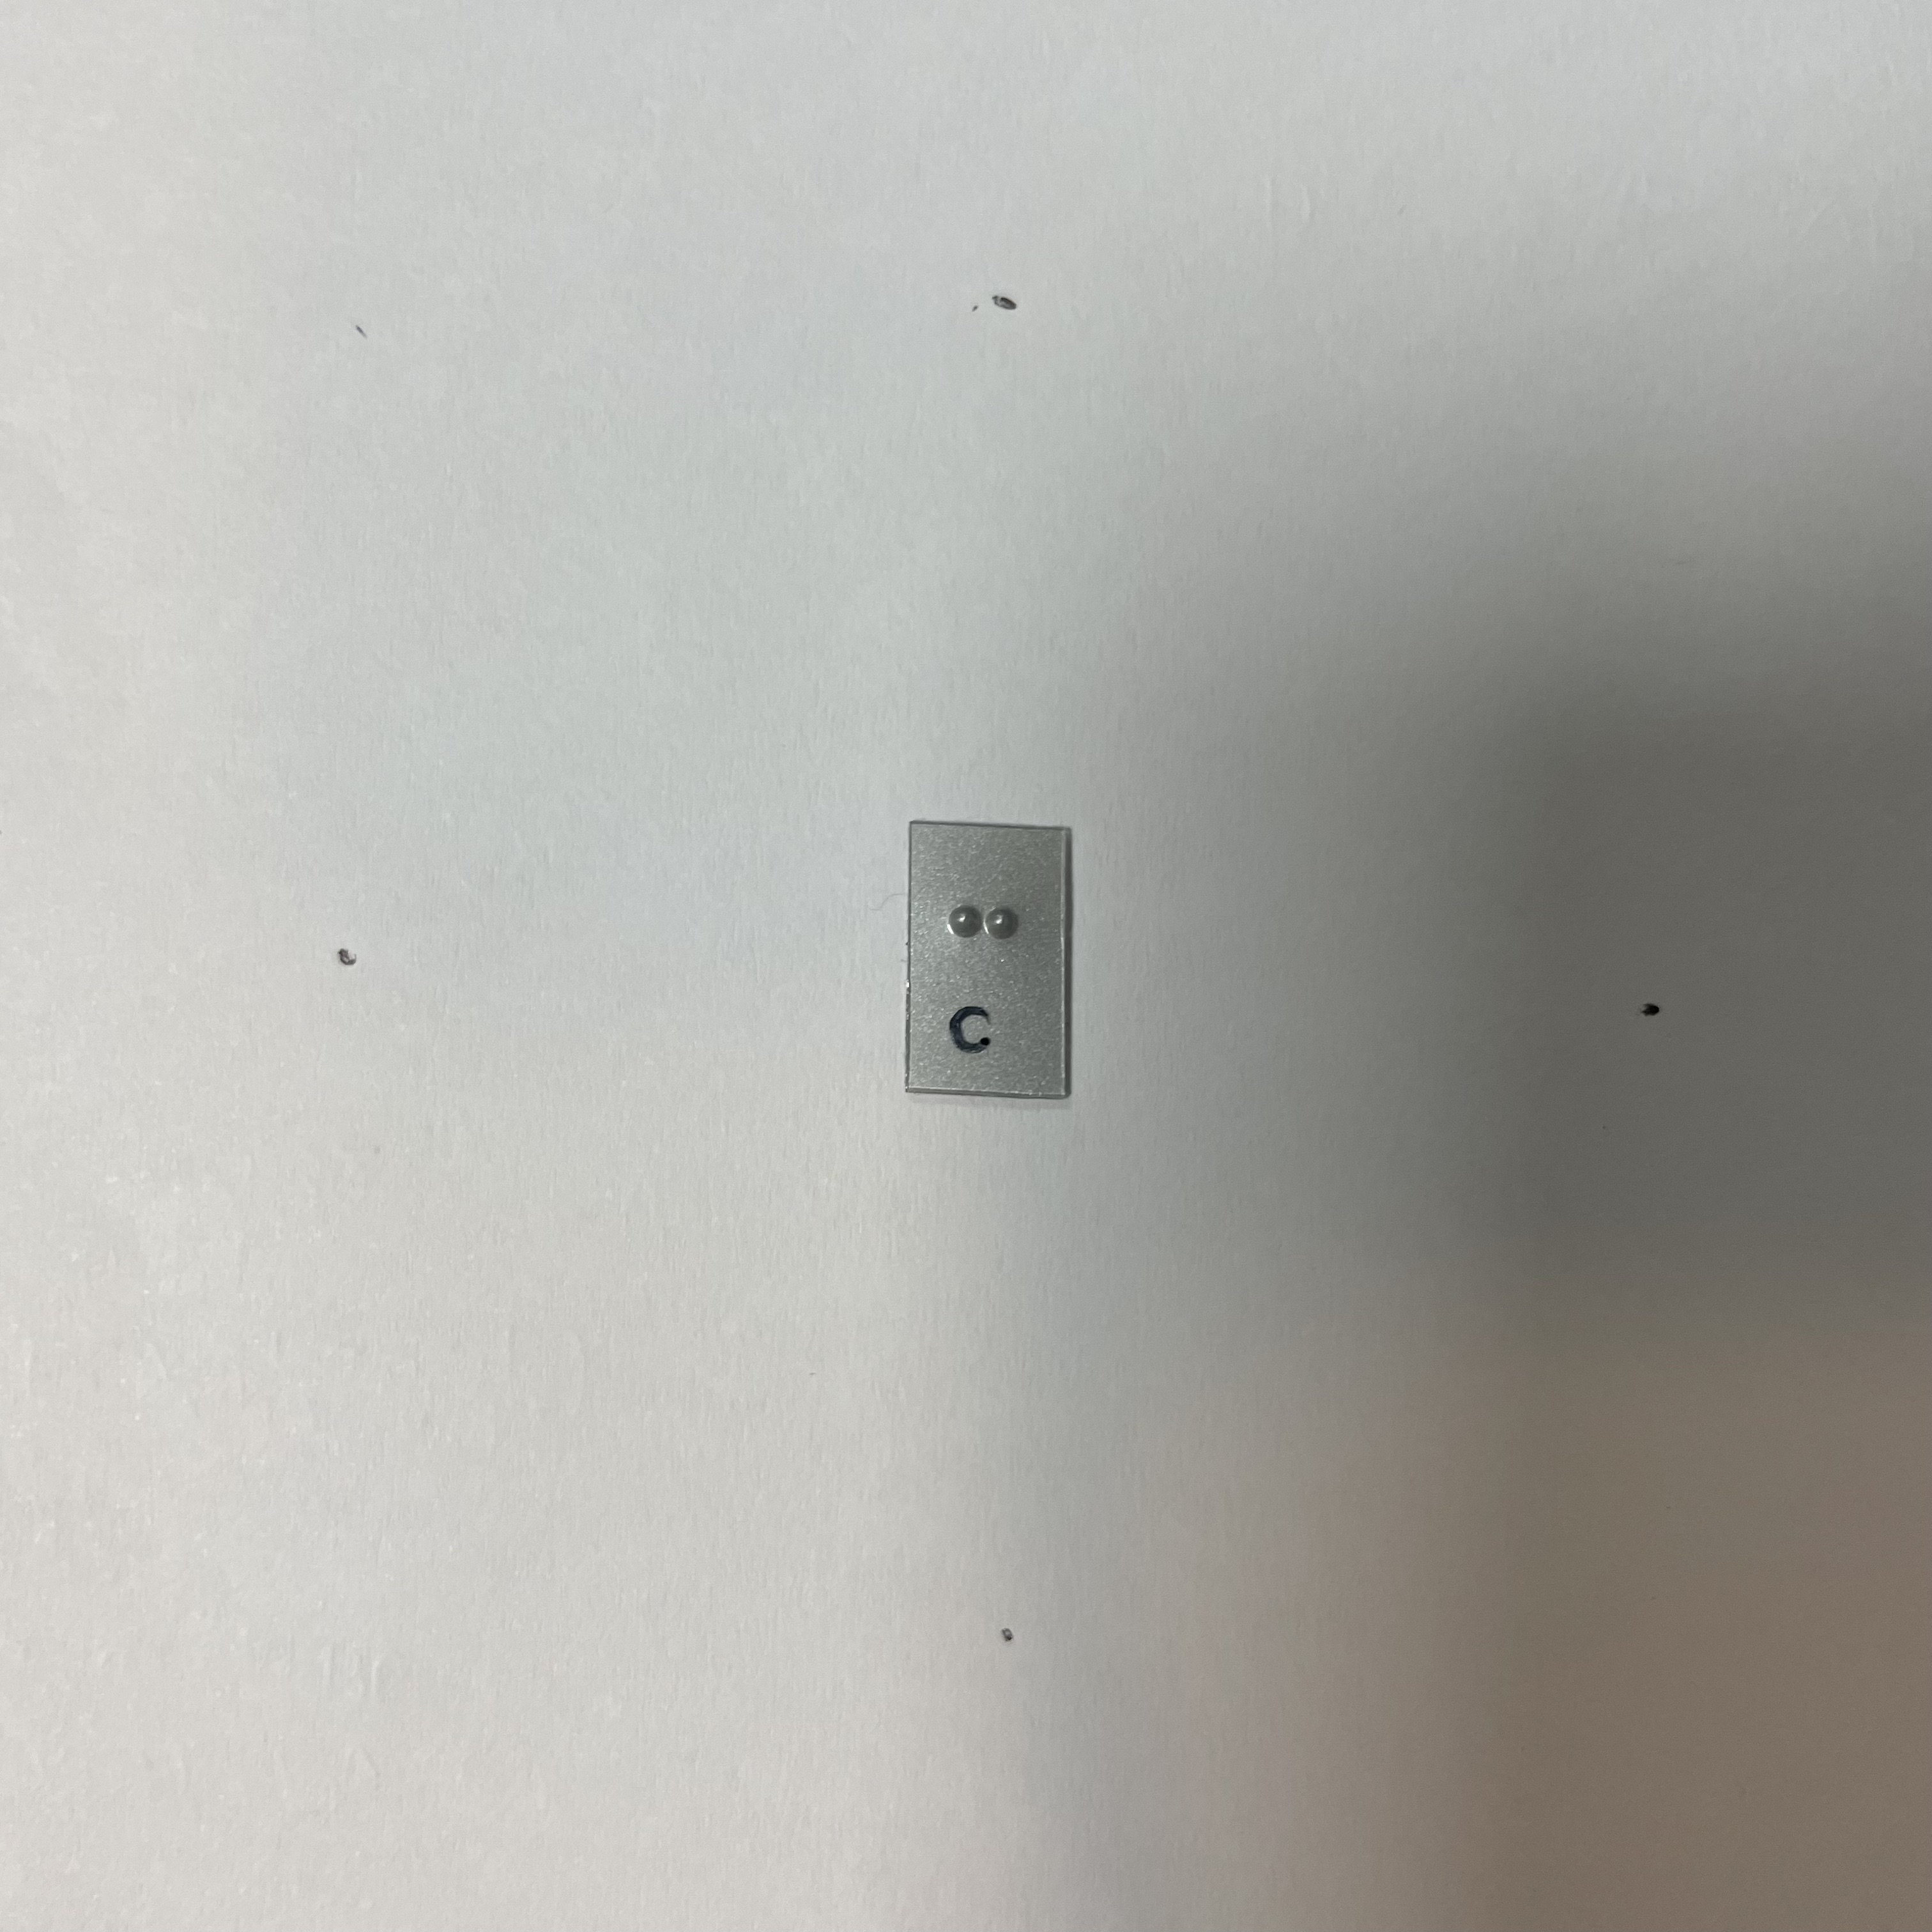c: (933, 880, 1039, 1011)
